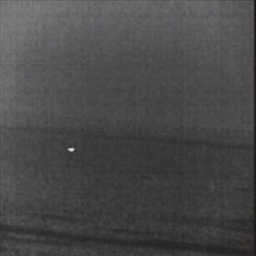Target: (66, 146, 75, 152)
